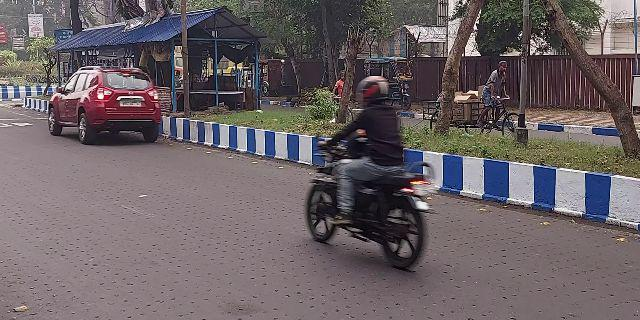Car: (48, 61, 172, 142)
Motorbike: (307, 78, 445, 279)
Rickshaw: (421, 59, 530, 139)
